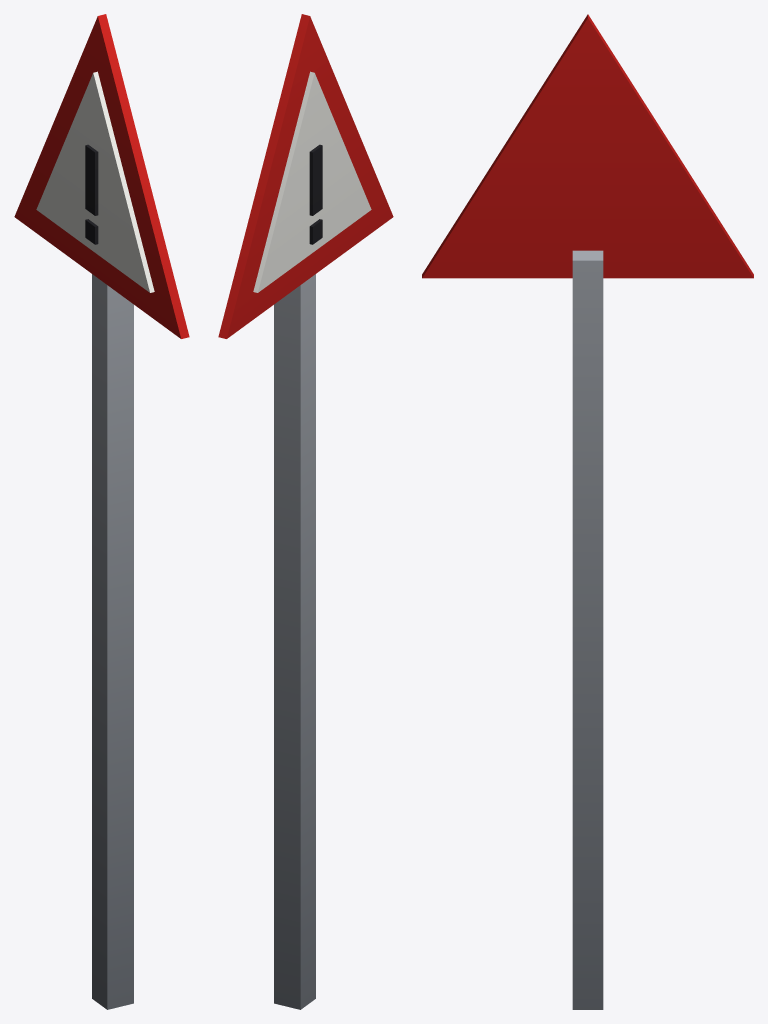
File: WarningSign.fbx
The picture shows the model from 3 angles, left to right: view 1: azimuth 30°, elevation 25°; view 2: azimuth 150°, elevation 25°; view 3: azimuth 270°, elevation 25°; orthographic projection.
Visible parts, largest first — view 1: WarningSign_LOD0; view 2: WarningSign_LOD0; view 3: WarningSign_LOD0.
Boxes of the visible parts, box(x1,y1,x2,y2) form: WarningSign_LOD0: box(14, 14, 189, 1009); WarningSign_LOD0: box(218, 14, 393, 1009); WarningSign_LOD0: box(422, 14, 753, 1009).
Bounding box in the file's own units: 0.019 × 0.498 × 0.1524.
Materials: 1 (1 with a texture image).
